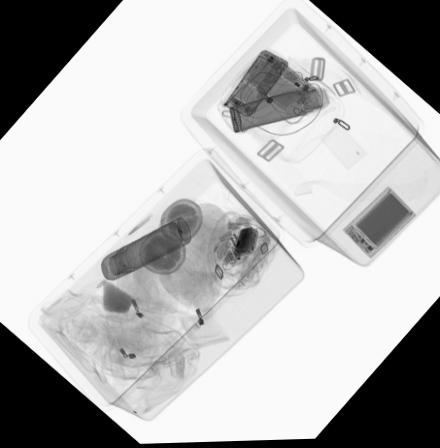Powerbank: (342, 188, 417, 262)
